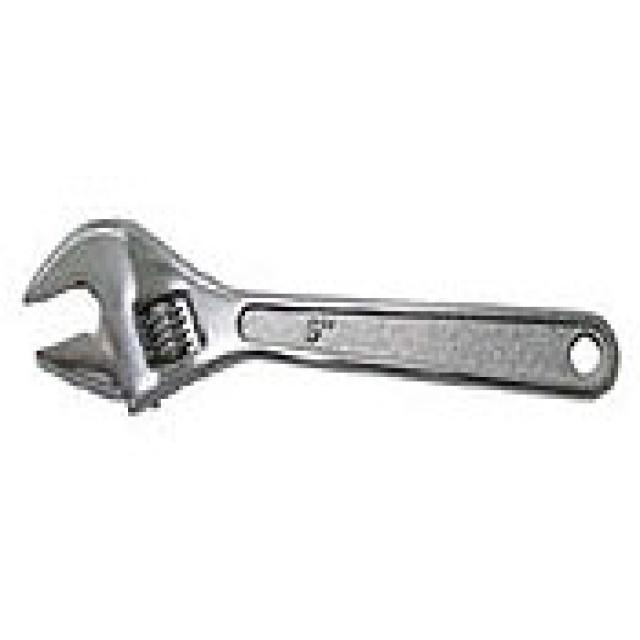wrench: (12, 208, 626, 430)
